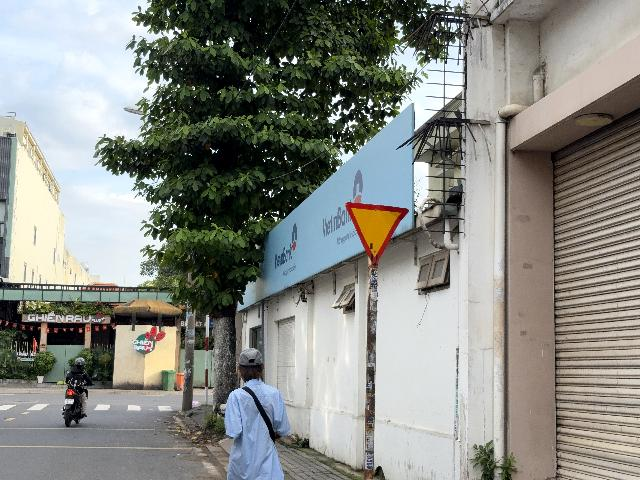giao-nhau-voi-duong-uu-tien: (345, 202, 410, 265)
